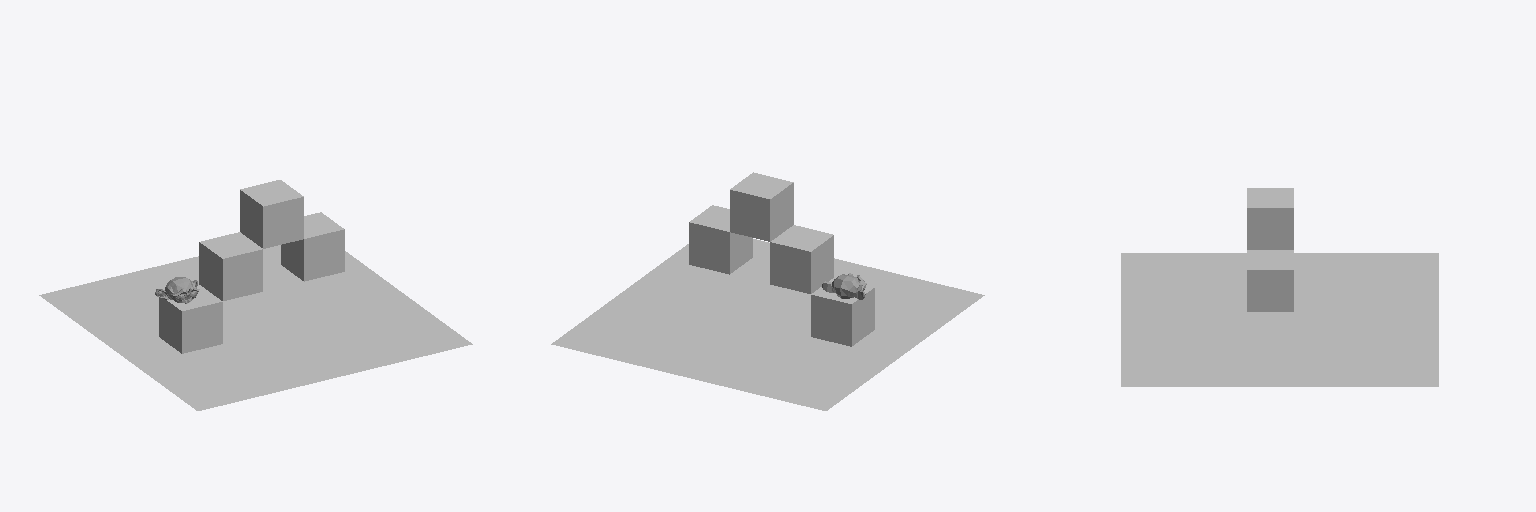
The model's file is cycles.obj.
3 renders of one model, left to right at view 1: azimuth 30°, elevation 25°; view 2: azimuth 150°, elevation 25°; view 3: azimuth 270°, elevation 25°, orthographic.
Visible parts, largest first — view 1: Plane, Cube.002_Cube.003, Cube.001_Cube.002, Cube_Cube.001, Cube.003_Cube.004, Suzanne; view 2: Plane, Cube.002_Cube.003, Cube.001_Cube.002, Cube.003_Cube.004, Cube_Cube.001, Suzanne; view 3: Plane, Cube.002_Cube.003, Cube.003_Cube.004.
Boxes of the visible parts, <box> form: Plane: <box>39,245,472,410</box>; Cube.002_Cube.003: <box>240,180,303,248</box>; Cube.001_Cube.002: <box>199,232,262,300</box>; Cube_Cube.001: <box>159,285,222,353</box>; Cube.003_Cube.004: <box>281,212,344,281</box>; Suzanne: <box>155,277,199,303</box>; Plane: <box>551,239,984,410</box>; Cube.002_Cube.003: <box>730,172,793,241</box>; Cube.001_Cube.002: <box>770,225,833,293</box>; Cube.003_Cube.004: <box>689,205,752,274</box>; Cube_Cube.001: <box>811,277,874,346</box>; Suzanne: <box>822,273,866,299</box>; Plane: <box>1121,253,1438,386</box>; Cube.002_Cube.003: <box>1247,188,1293,249</box>; Cube.003_Cube.004: <box>1247,250,1293,311</box>.
Size of the model in its own units: 17.53 by 7.76 by 17.53.